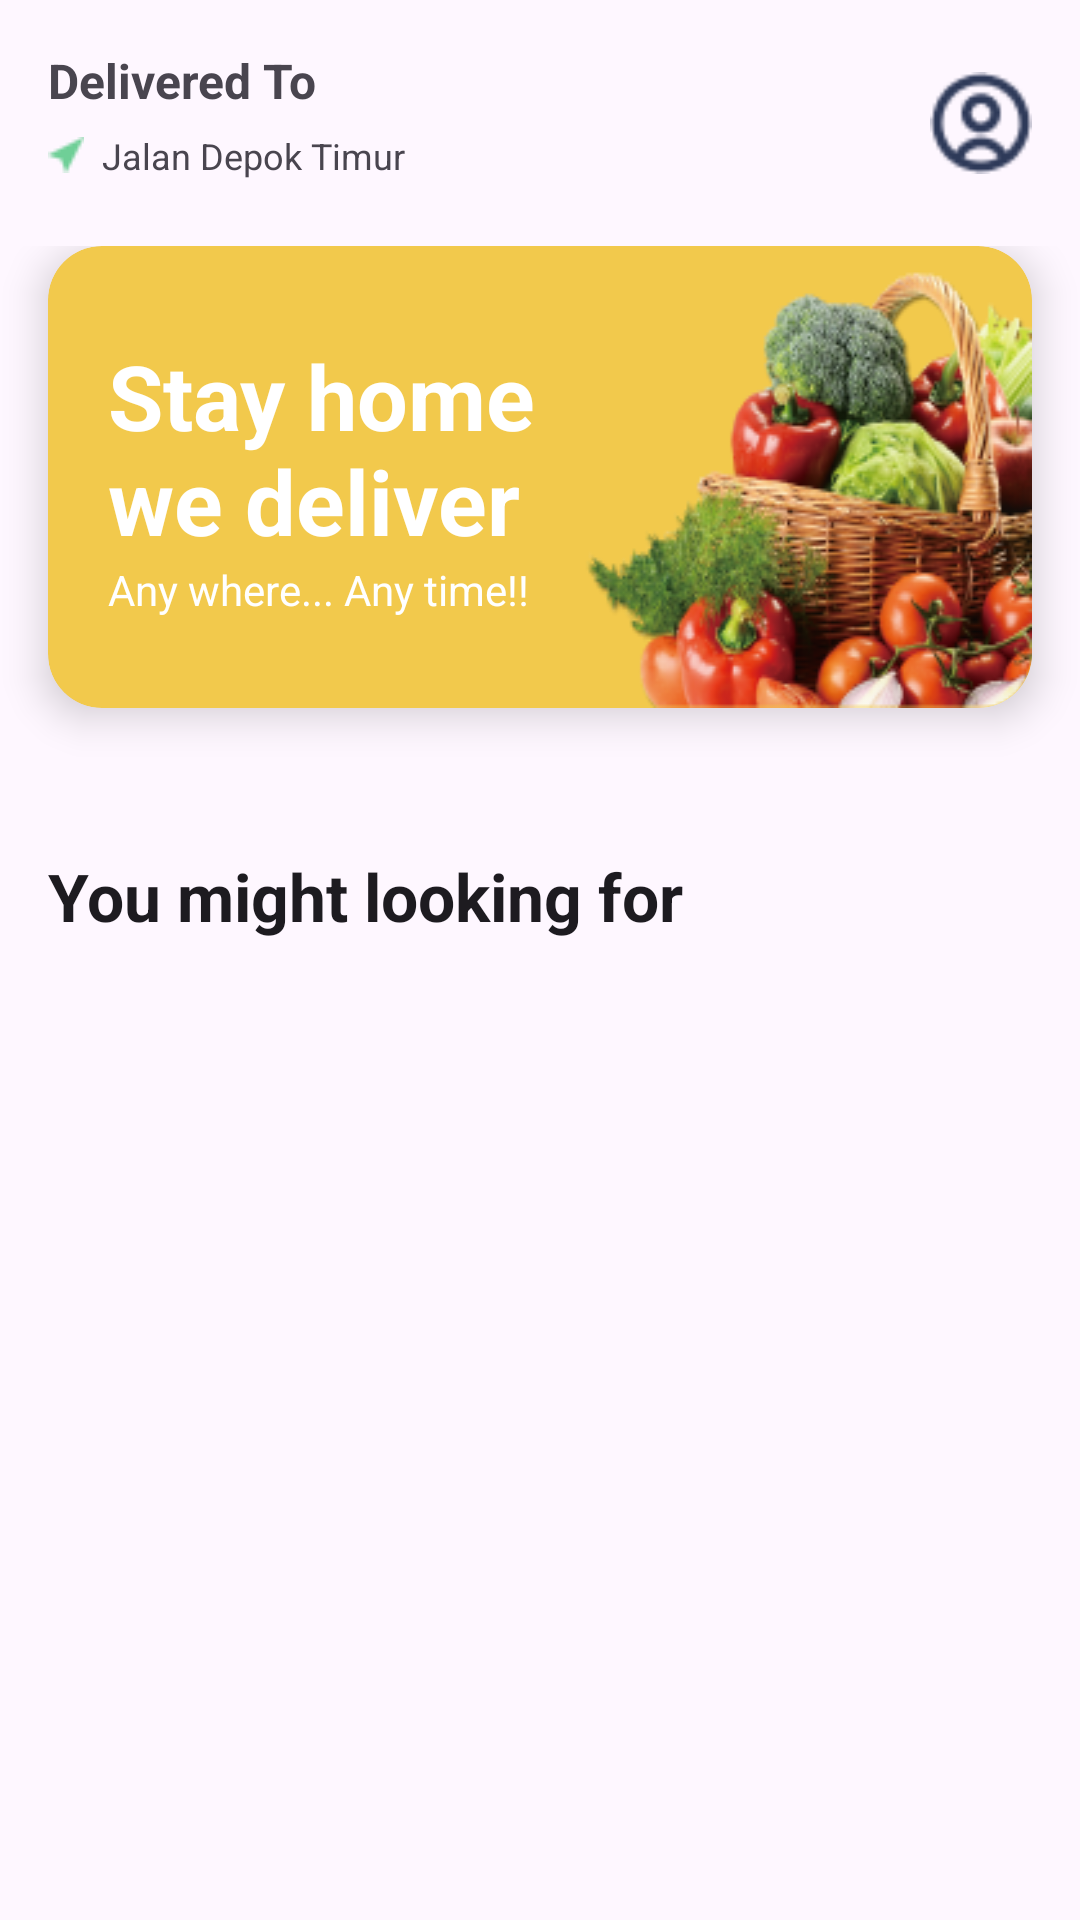

Screen size 1080 × 1920. Icon name, then its center in pixels as (x,y):
profile: (981,123)
